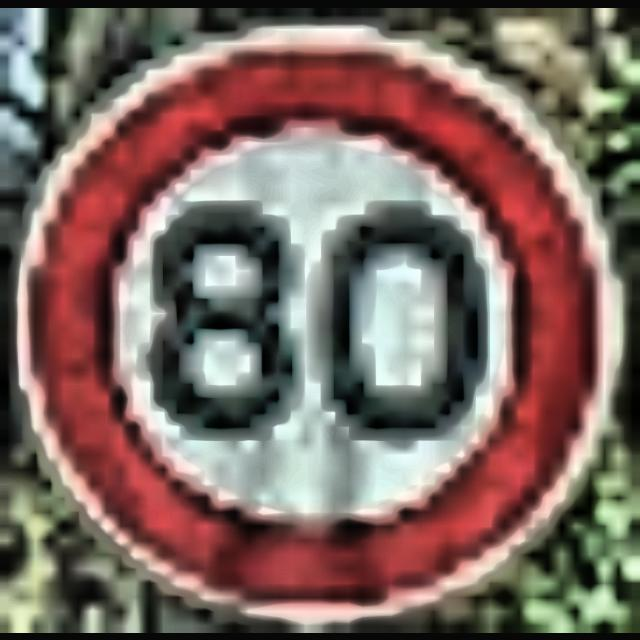speed_80: (0, 8, 640, 632)
